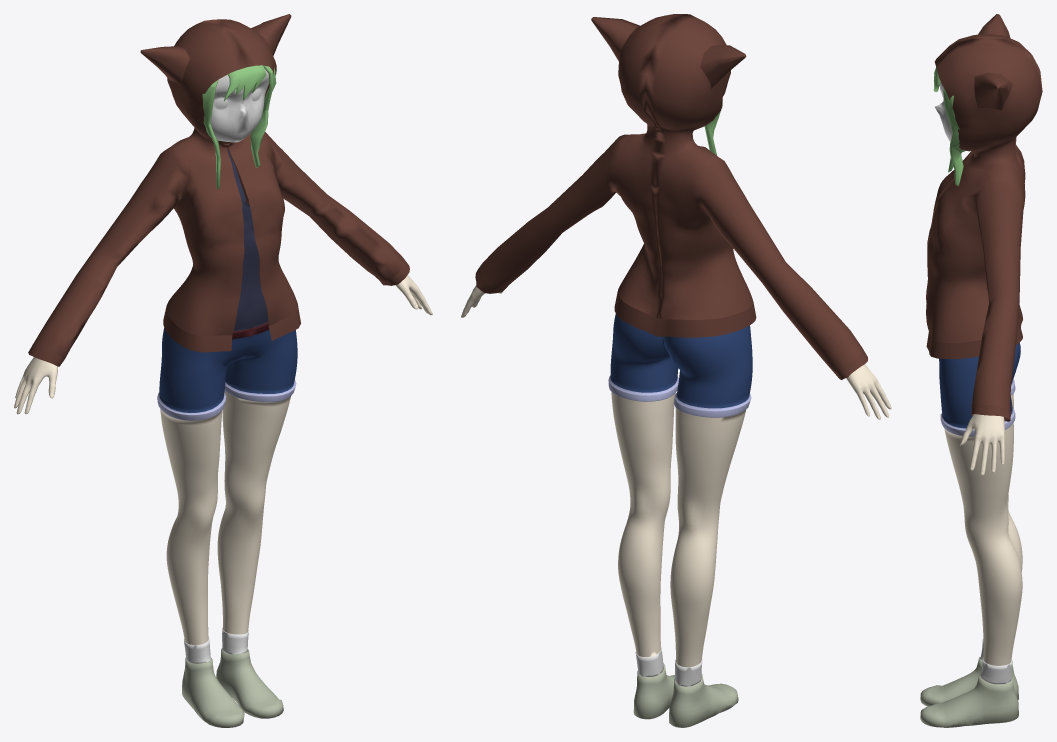
The model's file is character_model.fbx.
The picture shows the model from 3 angles, left to right: view 1: azimuth 30°, elevation 25°; view 2: azimuth 150°, elevation 25°; view 3: azimuth 270°, elevation 25°; orthographic projection. The views are drawn at different scales.
Visible parts, largest first — view 1: 3T2_tpose_02.001; view 2: 3T2_tpose_02.001; view 3: 3T2_tpose_02.001.
Part boxes in pixels (box(x1,y1,x2,y2)): 3T2_tpose_02.001: box(14, 14, 432, 727); 3T2_tpose_02.001: box(461, 14, 891, 727); 3T2_tpose_02.001: box(920, 14, 1042, 727).
Bounding box in the file's own units: 12747 × 19887 × 3273.
